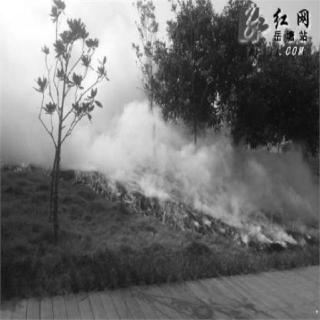Fire: (77, 167, 197, 233), (201, 199, 283, 255), (5, 148, 56, 178)
Smoke: (5, 2, 158, 172), (118, 108, 316, 226)
